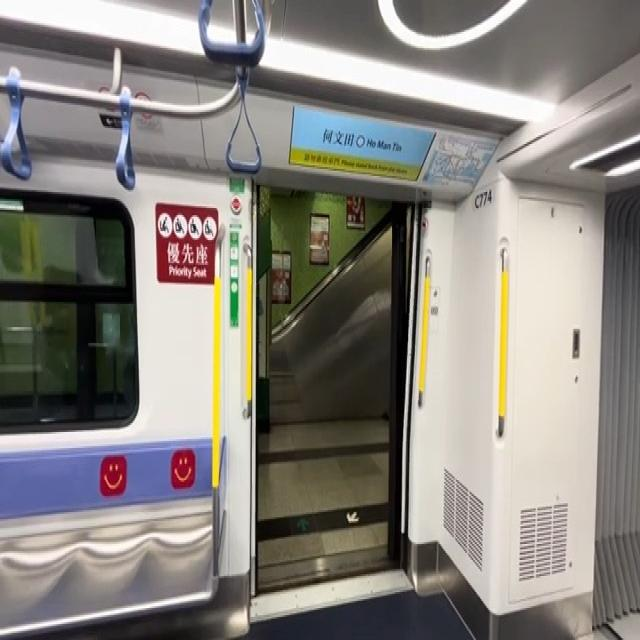bus-door: (253, 178, 418, 596)
